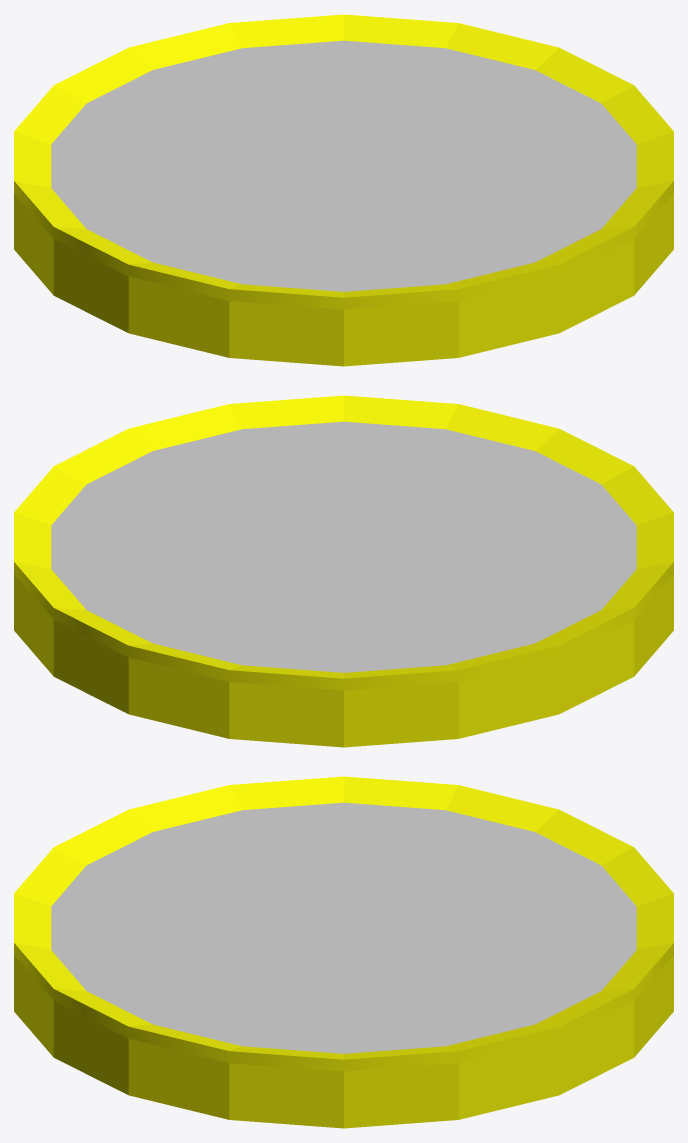
Rendered from fountainBase.glb.
3 renders of one model, top to bottom at view 1: azimuth 30°, elevation 25°; view 2: azimuth 150°, elevation 25°; view 3: azimuth 270°, elevation 25°, orthographic.
Visible parts, largest first — view 1: Cylinder001; view 2: Cylinder001; view 3: Cylinder001.
Boxes of the visible parts, left/top/right/bottom form: Cylinder001: left=14, top=14, right=673, bottom=366; Cylinder001: left=14, top=395, right=673, bottom=747; Cylinder001: left=14, top=776, right=673, bottom=1128.
Bounding box in the file's own units: 1.33 × 0.1502 × 1.31.
Materials: 2 (1 with a texture image).
